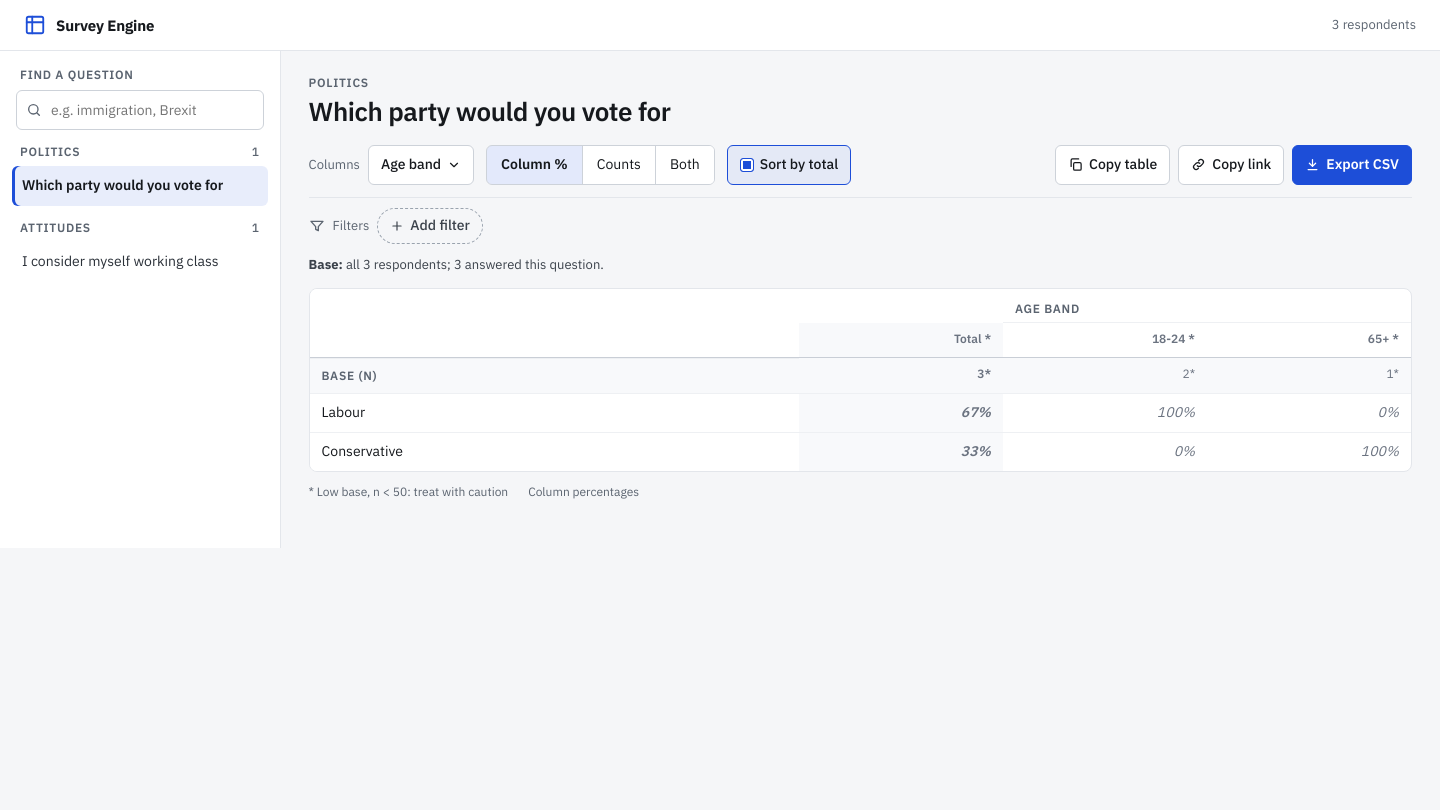
Test: filtering by an answer to another question
Expected: the table is shown, x1=310 y1=289 x2=1411 y2=471
Click the button "Add filter": {"x": 430, "y": 226} x1=377 y1=208 x2=483 y2=244
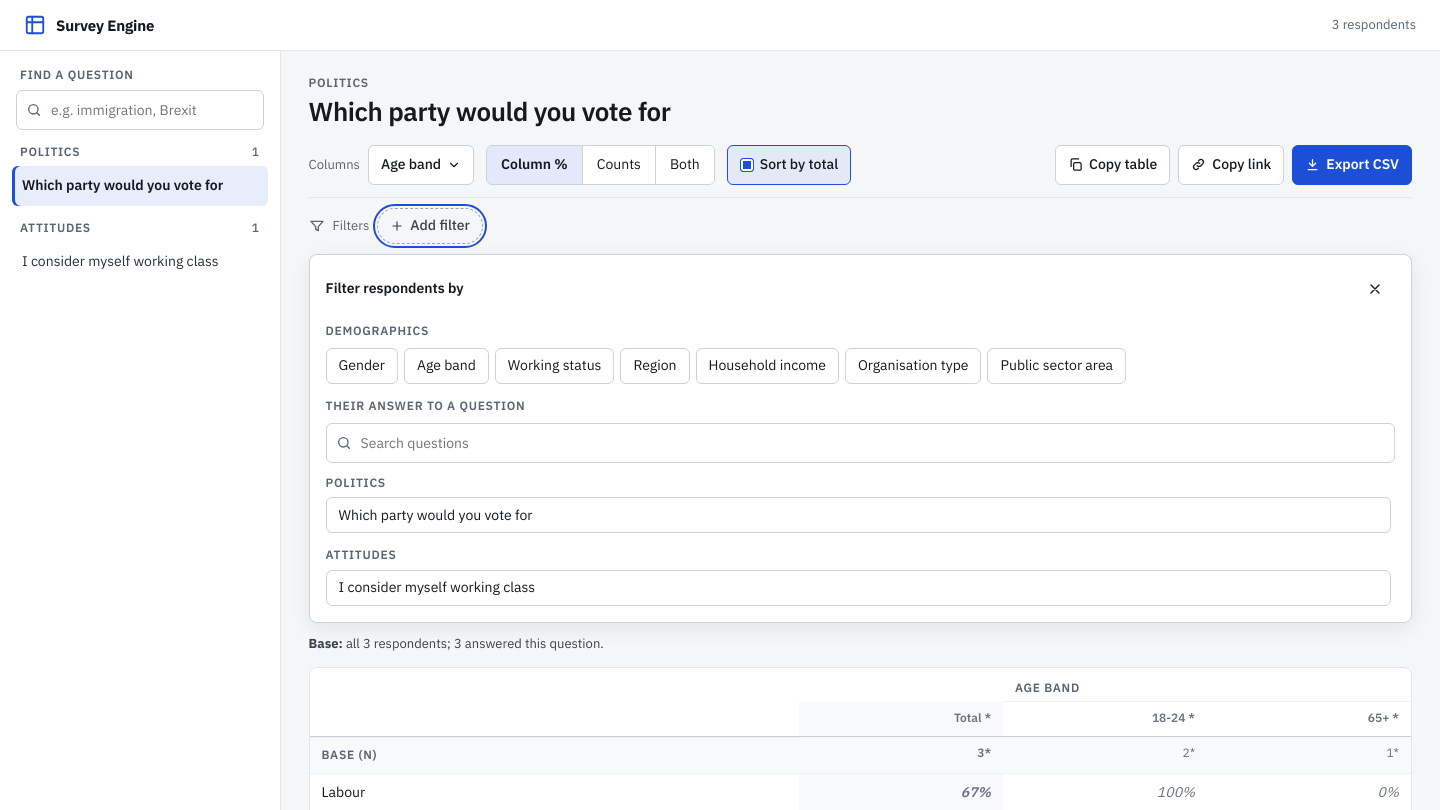
Click the button "I consider myself working class" below "Their answer to a question": {"x": 437, "y": 587} x1=326 y1=570 x2=1391 y2=606
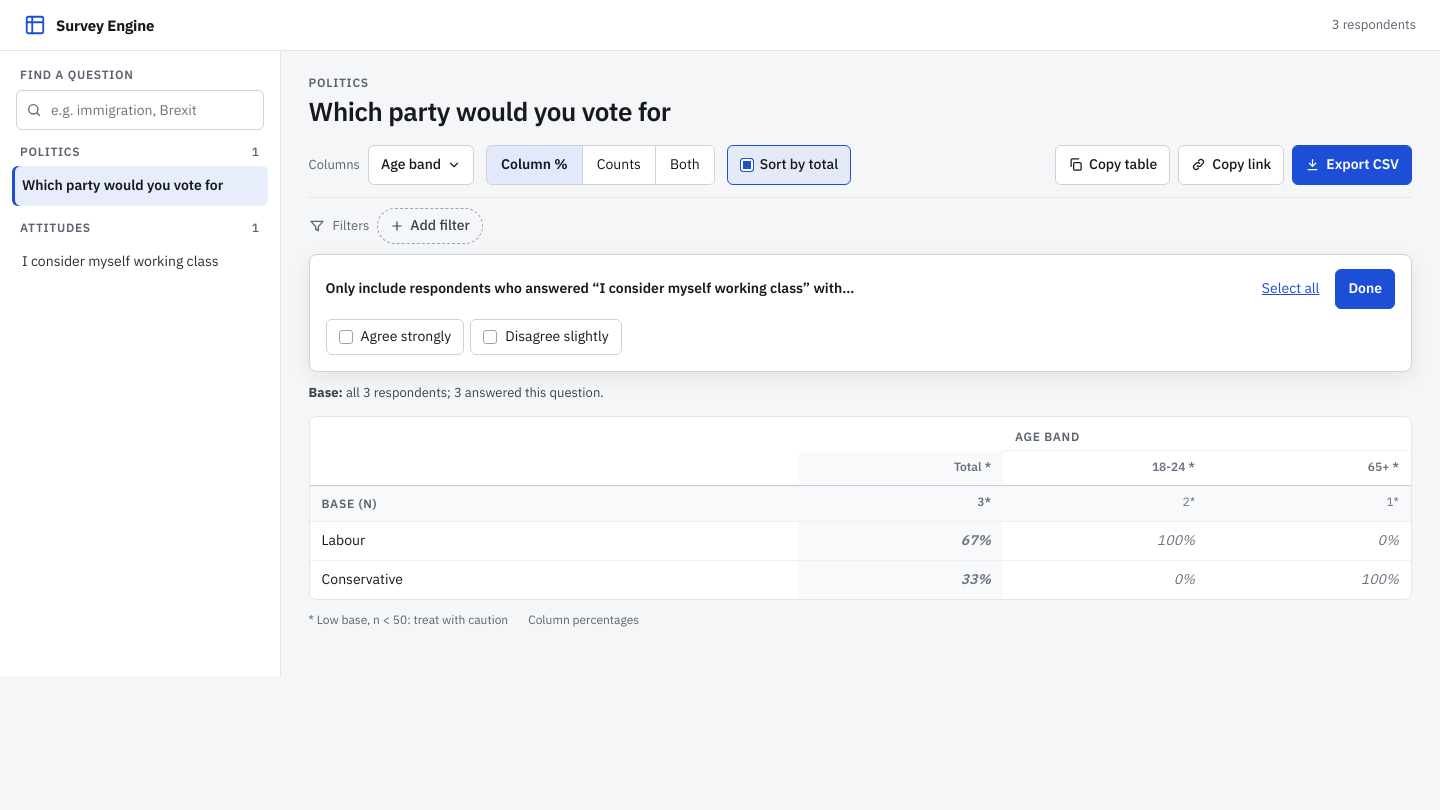
Click the button "Agree strongly": {"x": 395, "y": 337} x1=326 y1=319 x2=464 y2=355
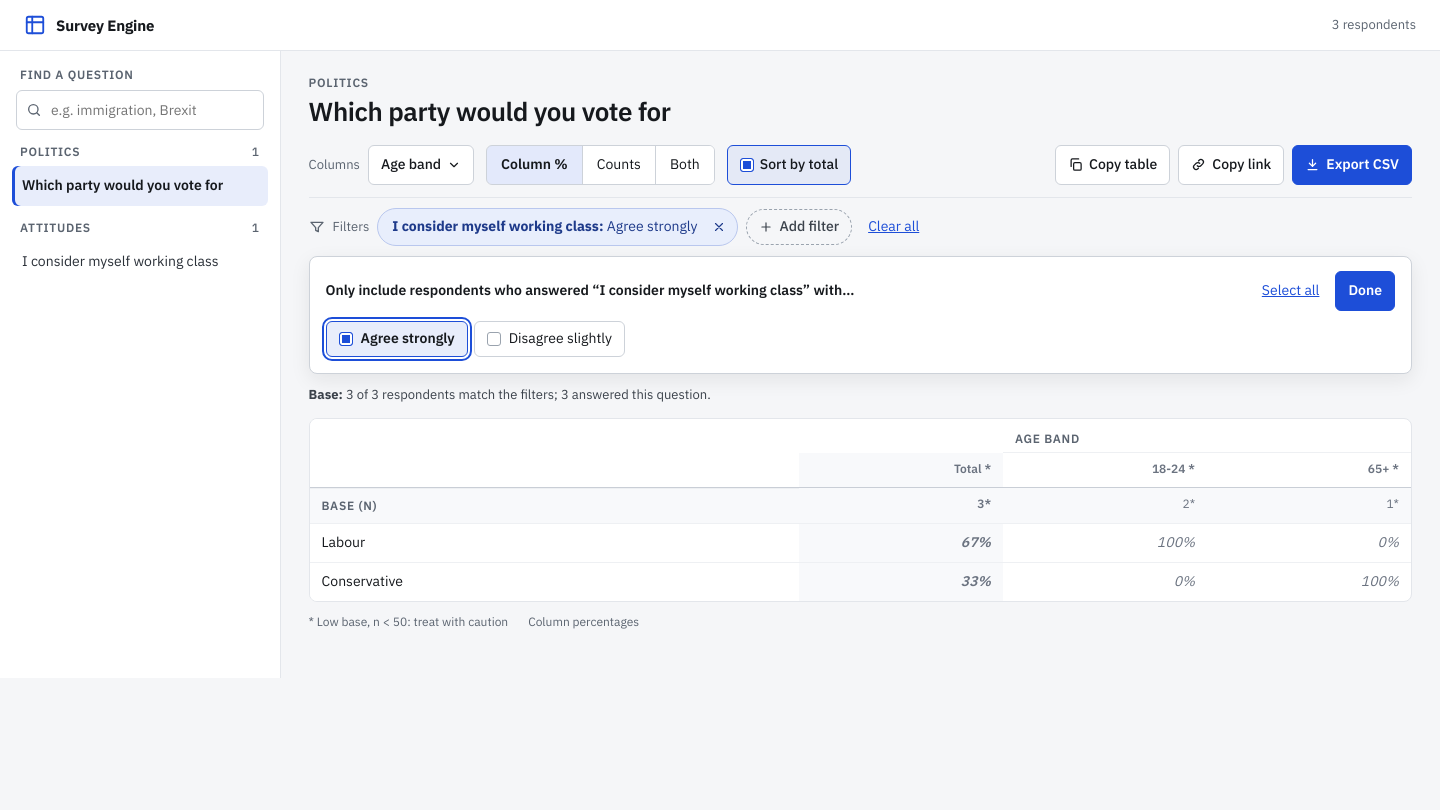
Result: the button named "Remove I consider myself working class filter" is shown at x1=702 y1=209 x2=738 y2=245
